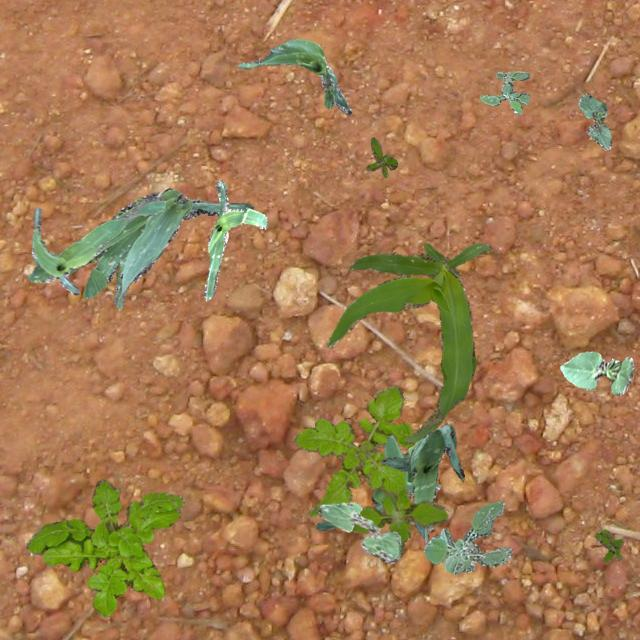crop: (324, 242, 492, 442), (68, 188, 252, 310), (28, 194, 164, 294), (316, 432, 440, 530), (381, 422, 464, 540), (238, 38, 350, 114), (202, 180, 266, 300), (316, 500, 401, 562), (558, 350, 632, 394), (578, 92, 610, 150)
weed: (26, 478, 182, 616), (292, 384, 414, 516), (351, 486, 447, 556), (424, 499, 512, 574), (479, 70, 528, 114), (366, 136, 396, 176), (594, 528, 622, 560)
